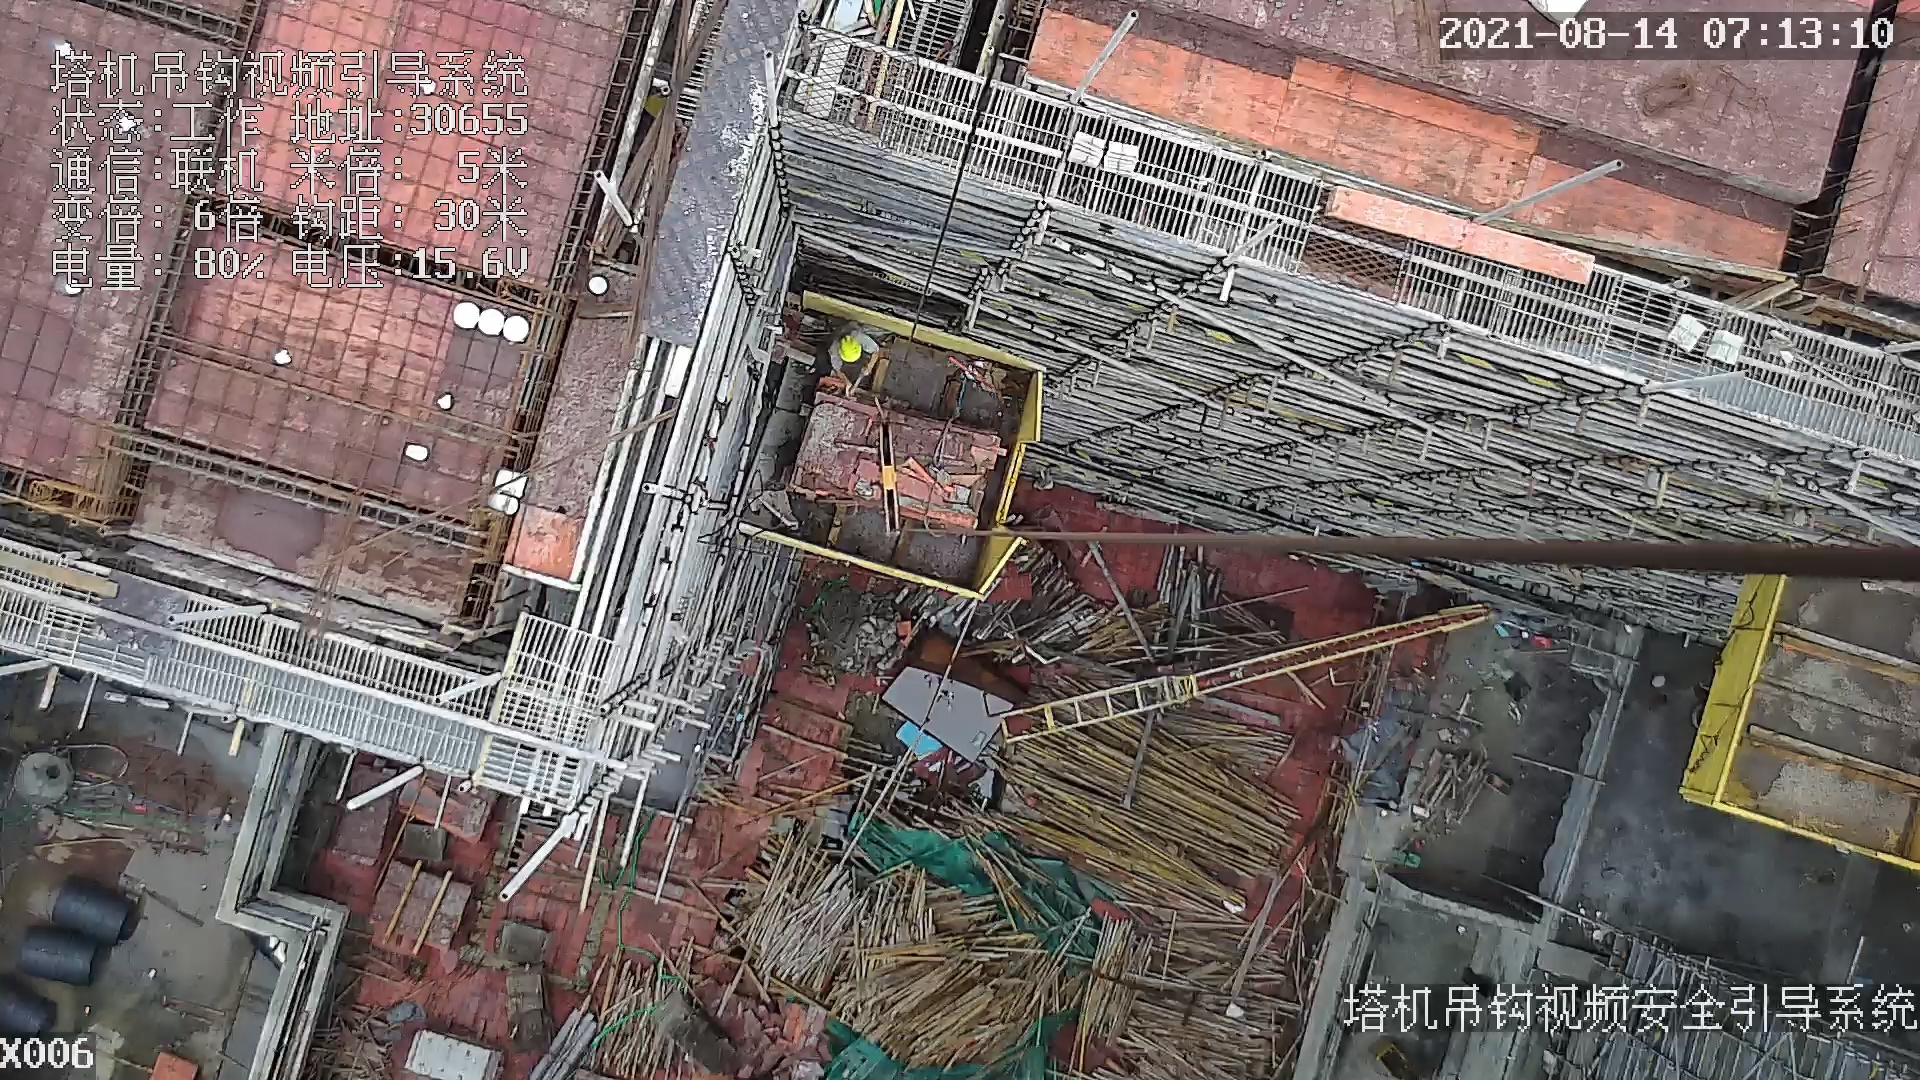helmet: (836, 333, 864, 365)
hook: (869, 419, 908, 542)
person: (822, 323, 873, 392)
